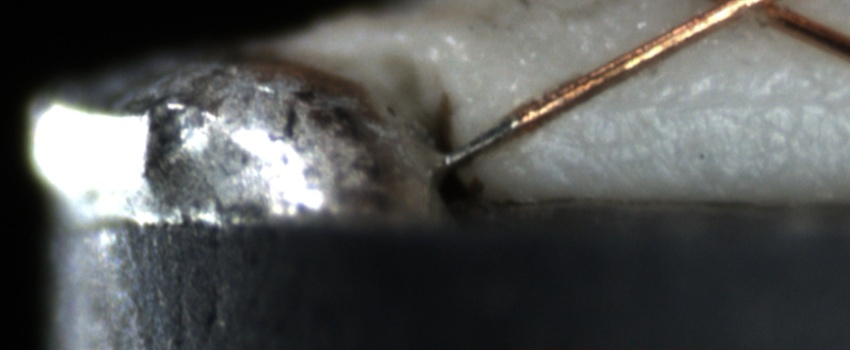CL: (707, 1, 804, 30)
DL: (579, 72, 850, 136)
TS: (440, 117, 517, 169)
TTCW: (439, 97, 548, 171)
